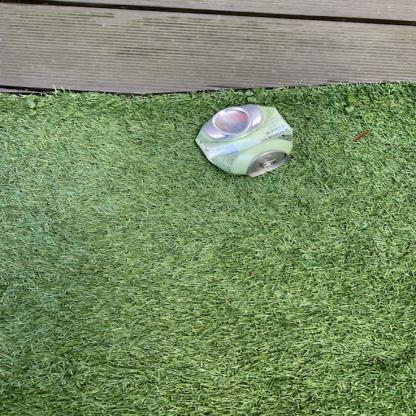trash: (197, 102, 298, 180)
